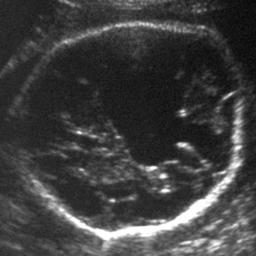abnormal: (3, 15, 250, 244)
